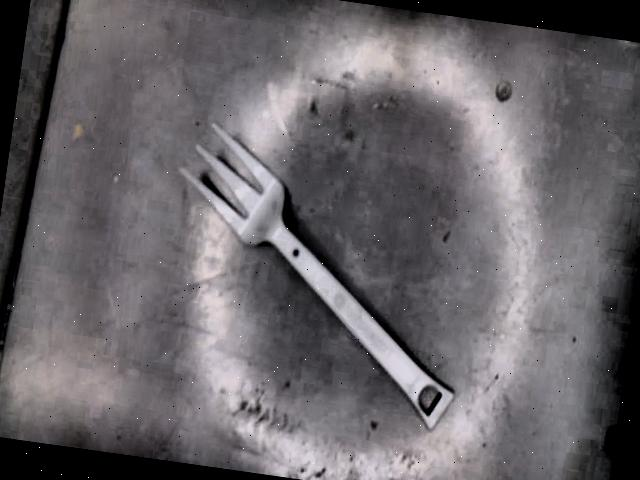Plastic: (171, 111, 482, 449)
